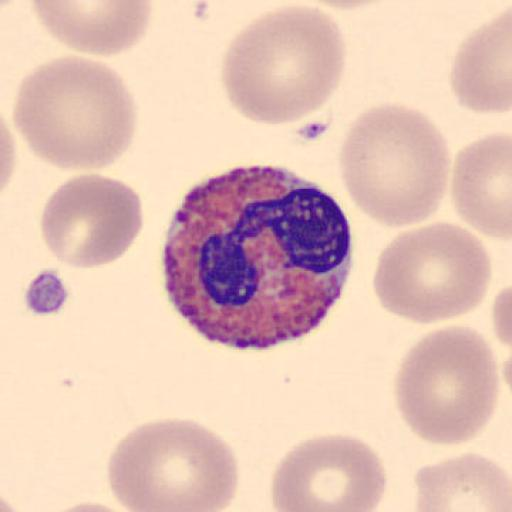Platelet: (20, 265, 74, 319), (294, 118, 334, 143)
RBC: (219, 3, 348, 127), (10, 53, 138, 171), (338, 100, 452, 231), (392, 323, 501, 449), (371, 220, 494, 326), (106, 416, 241, 512), (38, 171, 144, 270), (269, 431, 388, 512), (30, 0, 155, 56), (449, 6, 512, 116), (449, 130, 512, 240), (412, 451, 511, 512), (490, 280, 512, 392), (0, 115, 18, 197), (492, 281, 512, 351), (40, 500, 148, 512), (291, 0, 402, 11)
WBC: (162, 163, 354, 352)
